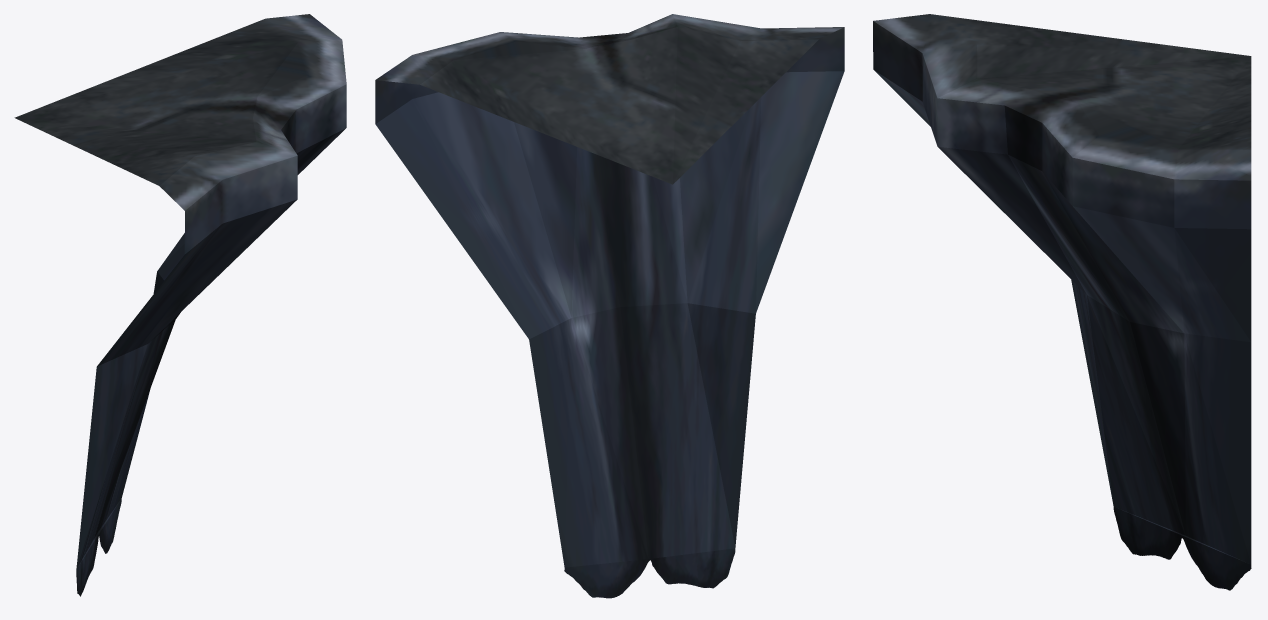
Rendered from mine_trim_convex_01.fbx.
The picture shows the model from 3 angles, left to right: view 1: azimuth 30°, elevation 25°; view 2: azimuth 150°, elevation 25°; view 3: azimuth 270°, elevation 25°; orthographic projection. The views are drawn at different scales.
Visible parts, largest first — view 1: obj0.014; view 2: obj0.014; view 3: obj0.014.
Part boxes in pixels (left/top/right/bottom): obj0.014: left=14, top=14, right=346, bottom=596; obj0.014: left=375, top=14, right=844, bottom=598; obj0.014: left=873, top=14, right=1251, bottom=590.
Bounding box in the file's own units: 1.06 × 1.65 × 1.07.
